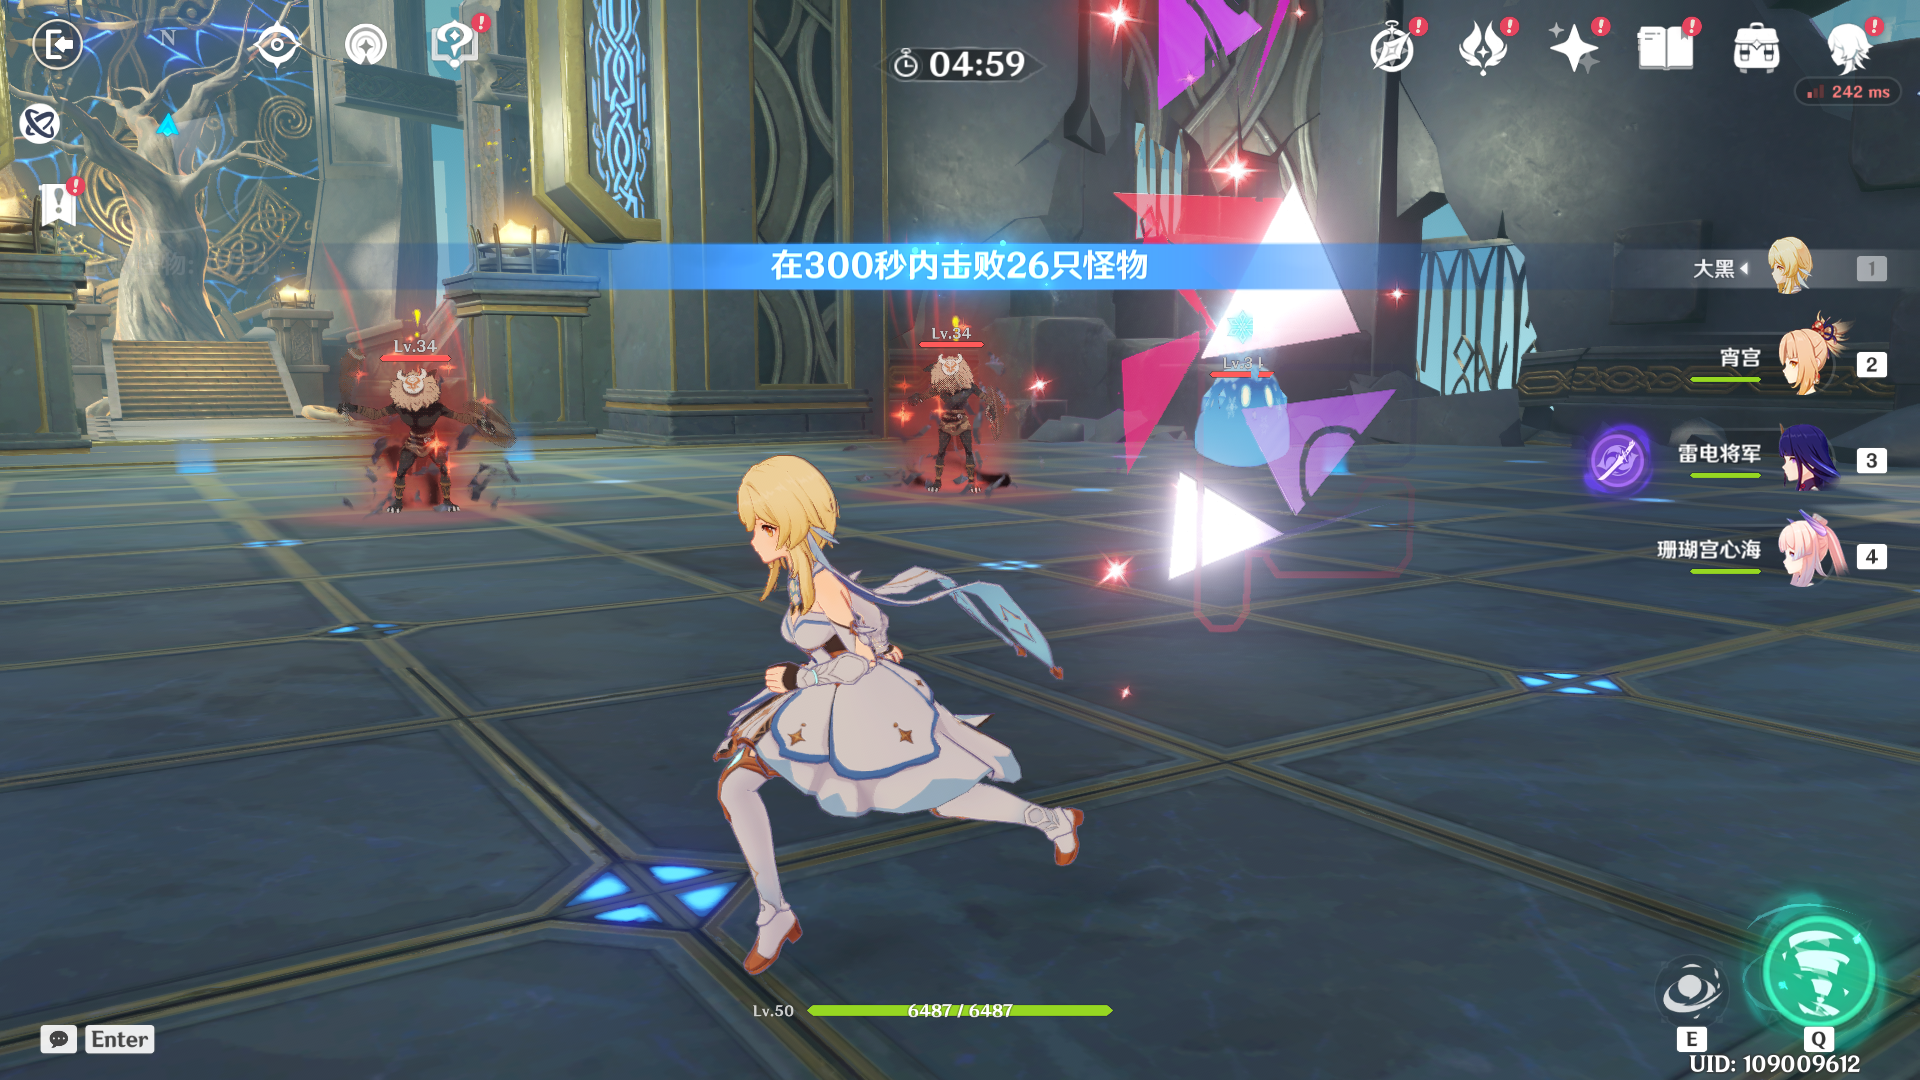character: (634, 430, 1139, 996)
hili: (327, 345, 512, 535), (877, 352, 1034, 517), (1182, 345, 1305, 484)
